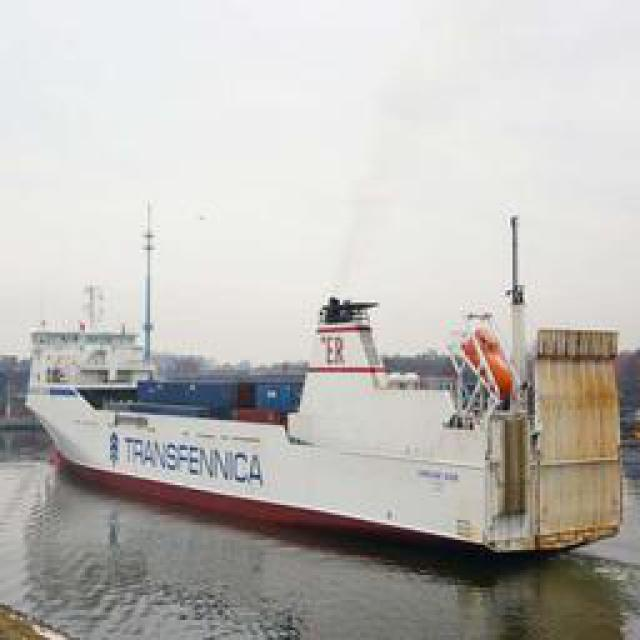Ship: (26, 261, 631, 559)
